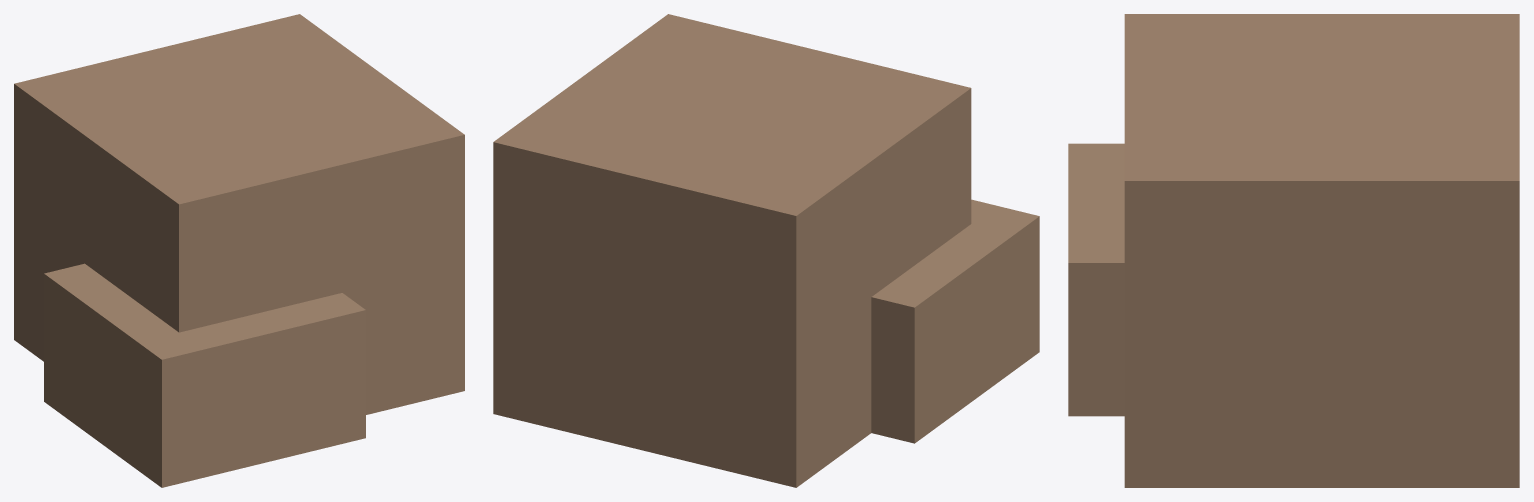
The model's file is yacimiento_arcilla_01.glb.
The picture shows the model from 3 angles, left to right: view 1: azimuth 30°, elevation 25°; view 2: azimuth 150°, elevation 25°; view 3: azimuth 270°, elevation 25°; orthographic projection. The views are drawn at different scales.
Visible parts, largest first — view 1: yacimiento_arcilla_01; view 2: yacimiento_arcilla_01; view 3: yacimiento_arcilla_01.
Part boxes in pixels (x1,y1,x2,y2): yacimiento_arcilla_01: (14, 14, 464, 487); yacimiento_arcilla_01: (493, 14, 1039, 487); yacimiento_arcilla_01: (1068, 14, 1519, 487).
Size of the model in its own units: 0.8 by 0.6 by 0.8.
